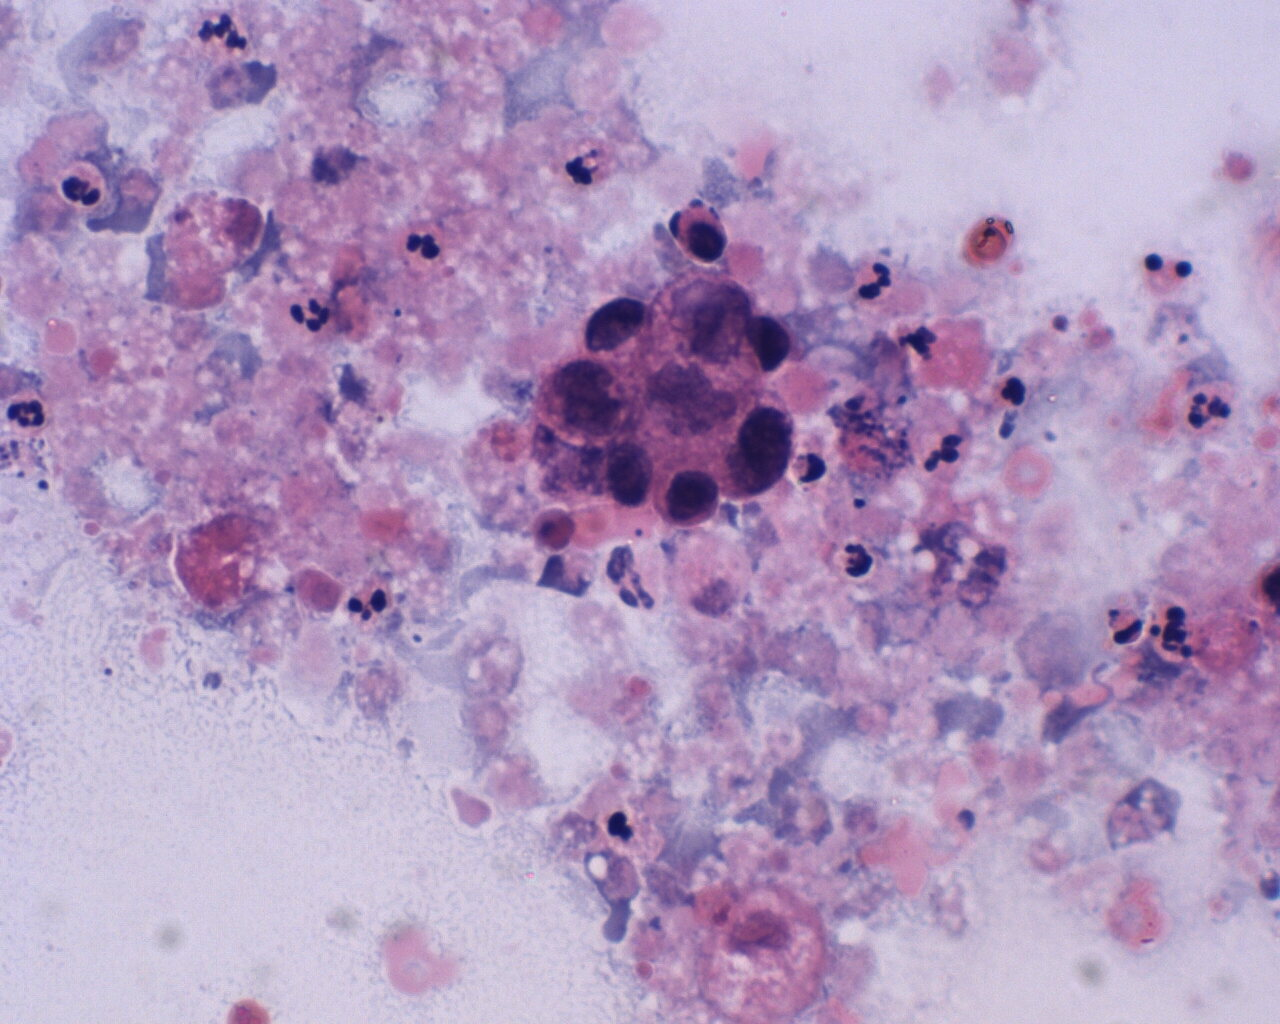ab: (533, 353, 645, 449), (720, 394, 794, 506), (649, 440, 723, 531)
neutro: (342, 578, 396, 631), (399, 216, 449, 271), (850, 259, 898, 306), (5, 392, 51, 434)
